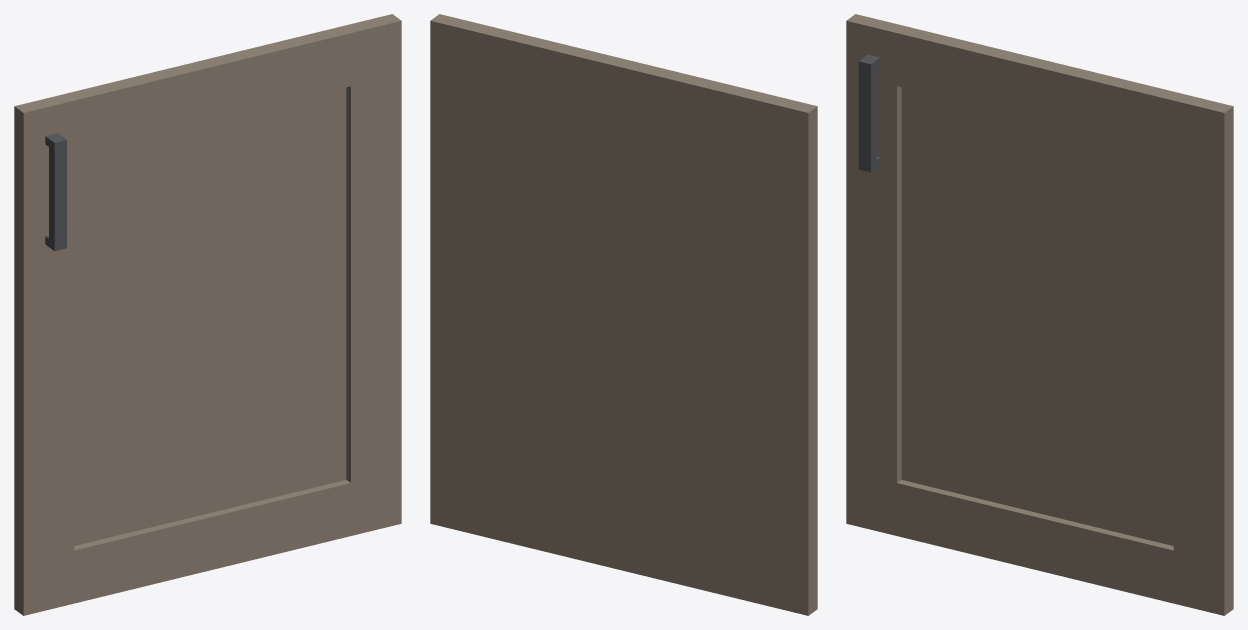
The model's file is Door2_C5_01.fbx.
3 views of the same model, side by side, from view 1: azimuth 30°, elevation 25°; view 2: azimuth 150°, elevation 25°; view 3: azimuth 330°, elevation 25° (orthographic).
Parts seen in each view (by area): view 1: Door2_C5_01; view 2: Door2_C5_01; view 3: Door2_C5_01.
Boxes of the visible parts, box(x1,y1,x2,y2) form: Door2_C5_01: box(14, 14, 401, 615); Door2_C5_01: box(430, 14, 817, 615); Door2_C5_01: box(846, 14, 1233, 615).
Bounding box in the file's own units: 59 × 75 × 5.03.
